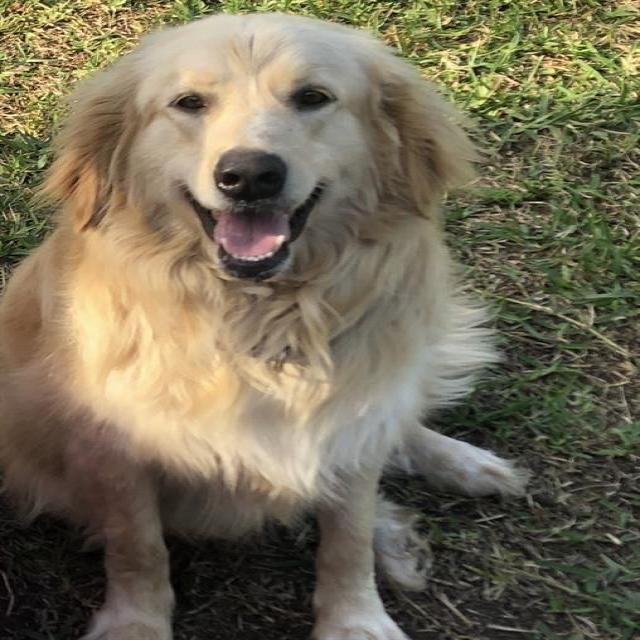golden_retriever_dog: (21, 6, 496, 330)
